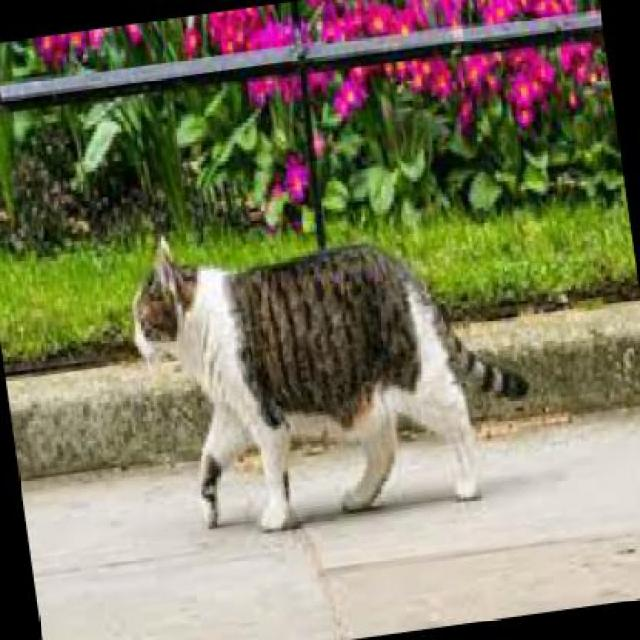animals: (92, 172, 558, 562)
